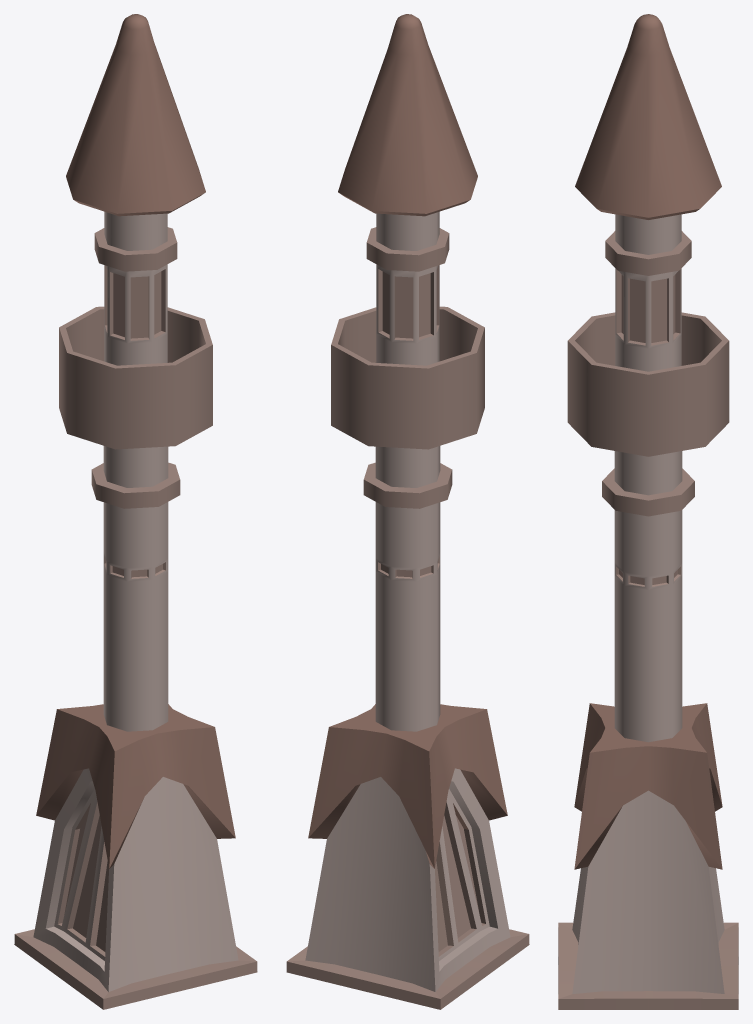
Rendered from Building05.fbx.
3 views of the same model, side by side, from view 1: azimuth 30°, elevation 25°; view 2: azimuth 150°, elevation 25°; view 3: azimuth 270°, elevation 25° (orthographic).
Parts seen in each view (by area): view 1: Building05; view 2: Building05; view 3: Building05.
Part boxes in pixels (bbox=[...]): Building05: bbox=[14, 14, 257, 1009]; Building05: bbox=[286, 14, 529, 1009]; Building05: bbox=[558, 14, 738, 1009].
Bounding box in the file's own units: 3.22 × 3.22 × 18.84.
